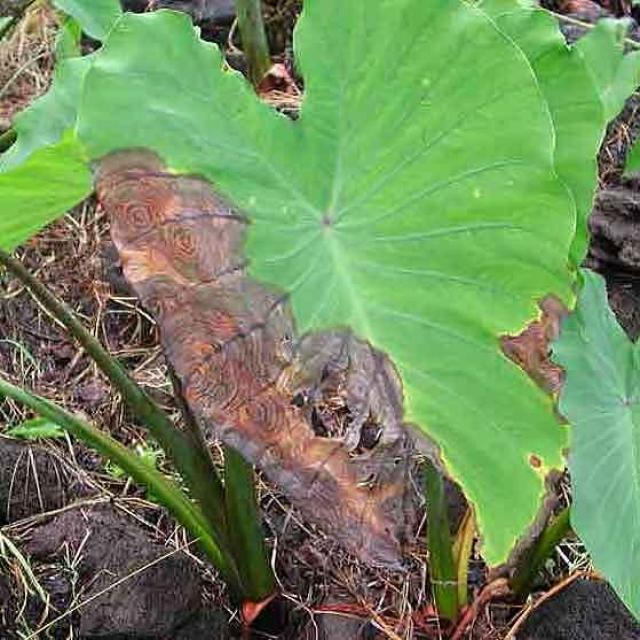blight: (172, 150, 272, 366), (264, 384, 377, 506)
